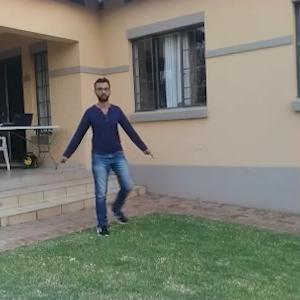land: (61, 88, 148, 226)
